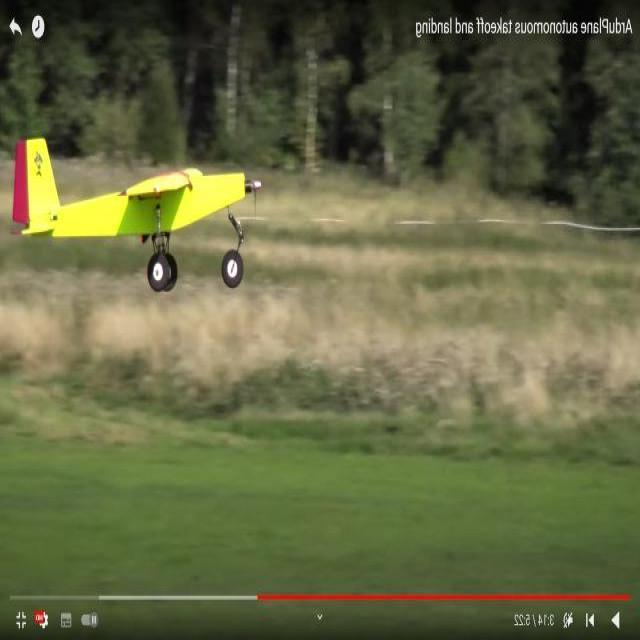UAV: (17, 140, 276, 278)
